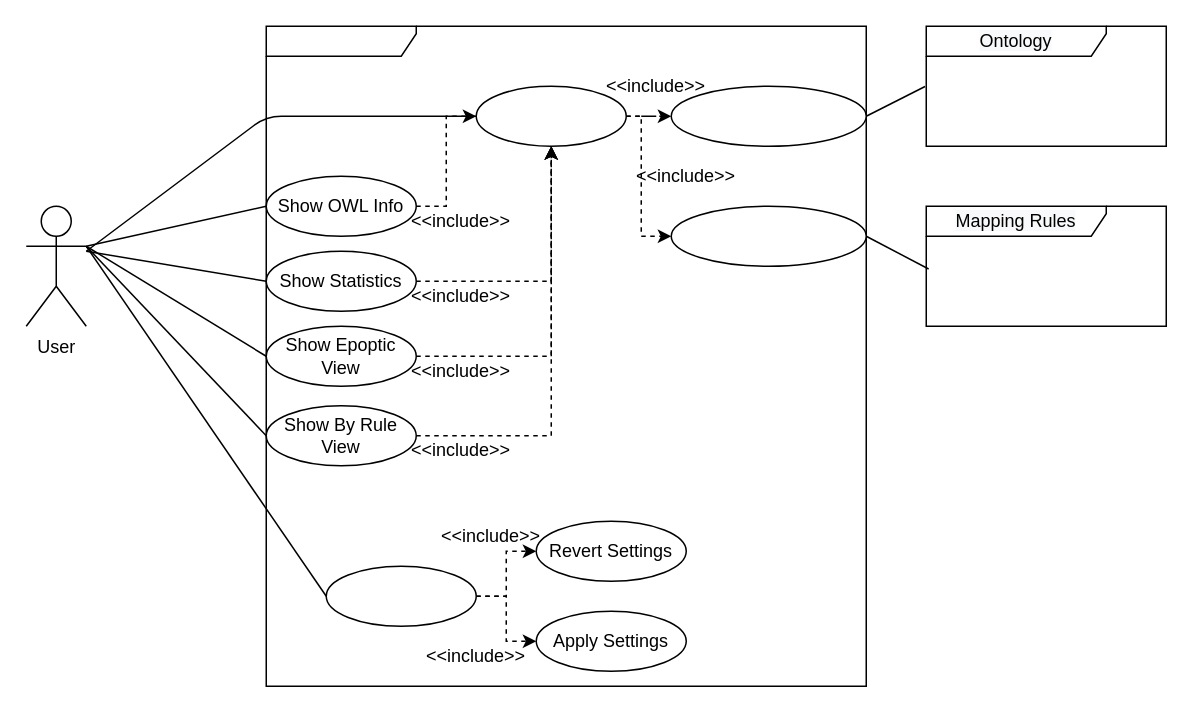
The diagram is 1193 pixels wide and 713 high, and some of its shapes have lost their labels. The box of each missing label's shape, as (x1, y1, x2, y2) in pixels:
Change Settings: (325, 565, 476, 626)
Mapping Rules Parser: (670, 205, 866, 266)
New Visualization: (475, 85, 626, 146)
OMV system: (265, 25, 866, 686)
OWL Parser: (670, 85, 866, 146)
